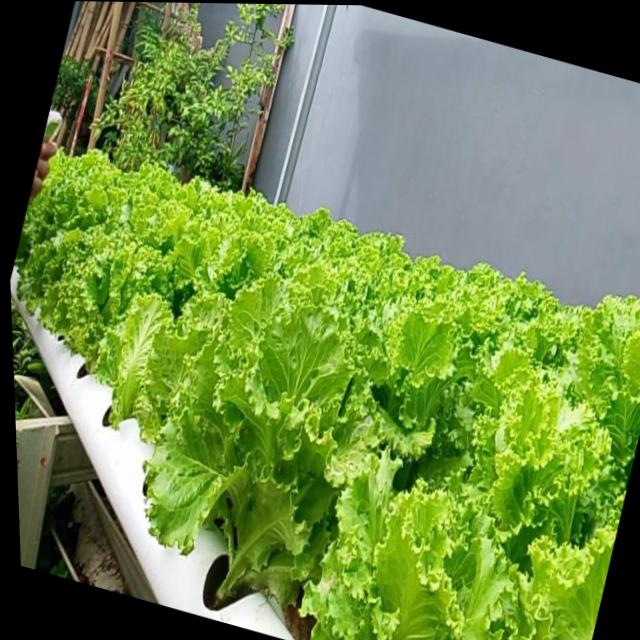Mature: (149, 292, 368, 619), (44, 234, 162, 398)
